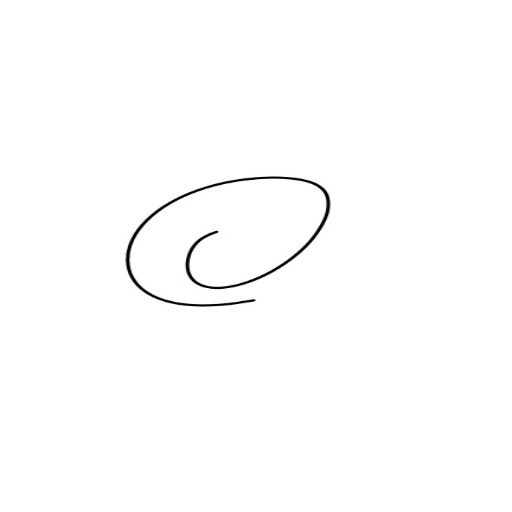circle: (119, 172, 337, 316)
